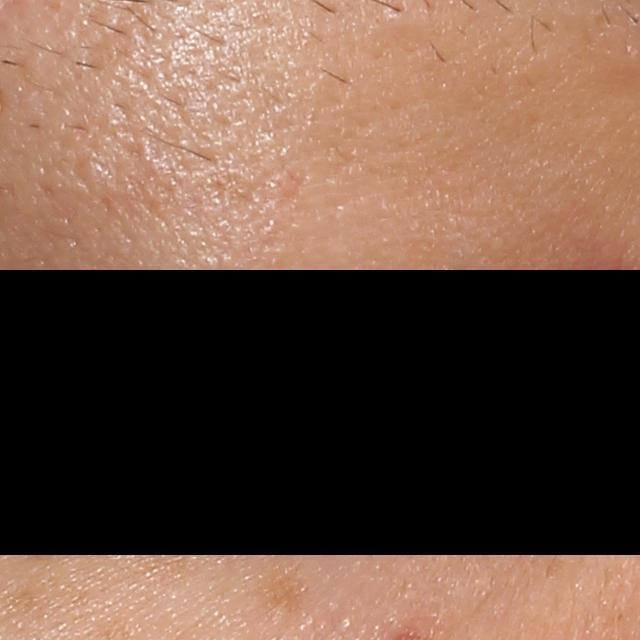melasma: (246, 564, 316, 616)
